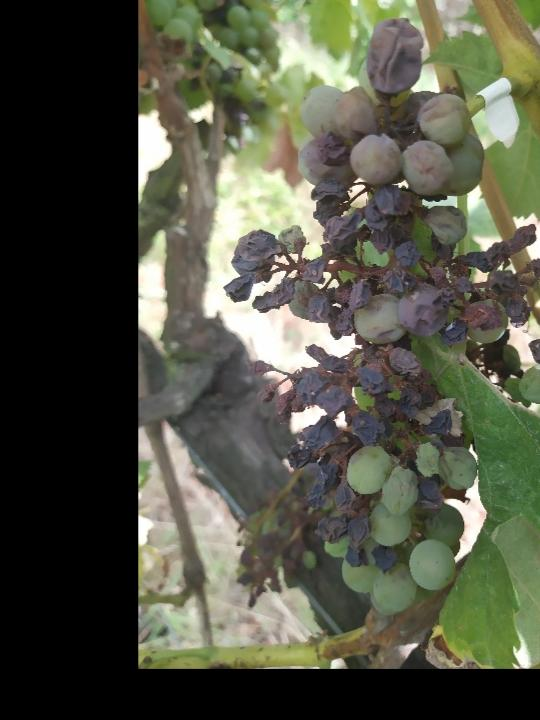grape: (219, 15, 540, 618)
